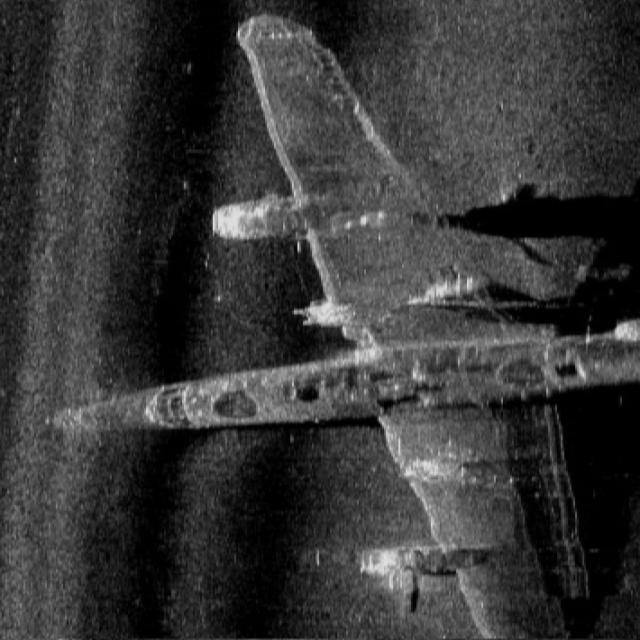plane: (54, 11, 624, 633)
